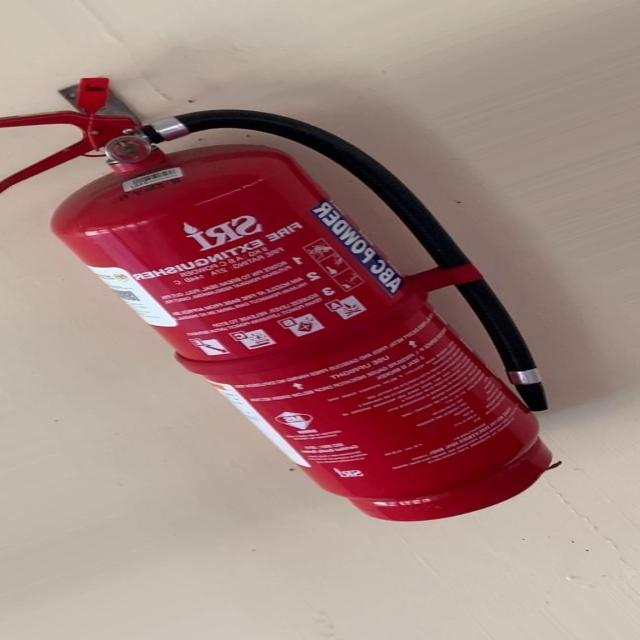fire_extinguisher: (0, 70, 569, 527)
